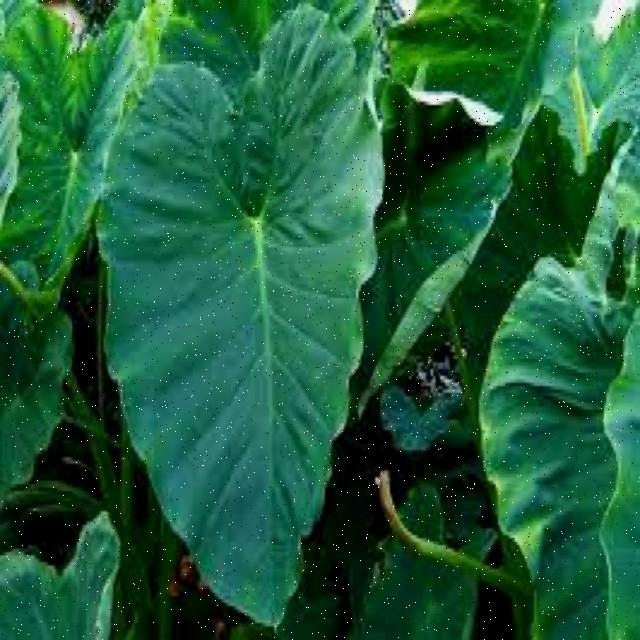Taro Leaves: (109, 41, 346, 640), (483, 176, 640, 640), (14, 6, 131, 296), (406, 0, 550, 155)
